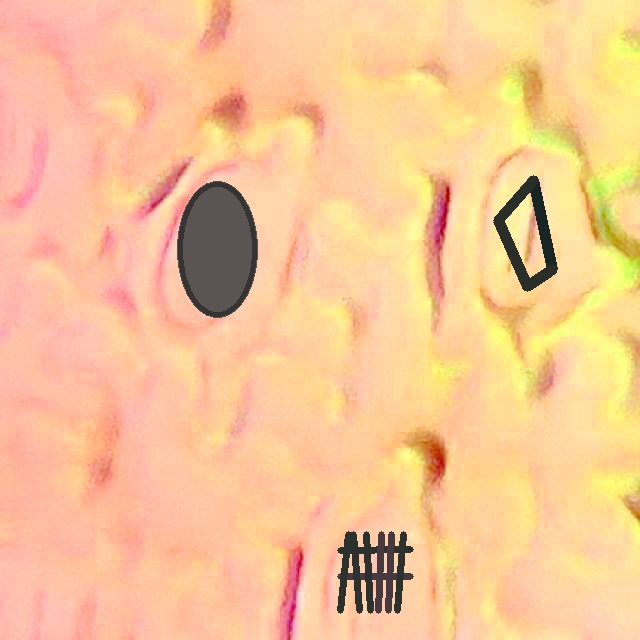close: (177, 181, 257, 317), (494, 176, 556, 291), (338, 532, 413, 613)
